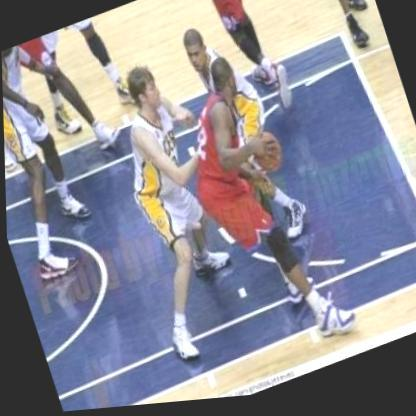basketball: (244, 131, 290, 185)
